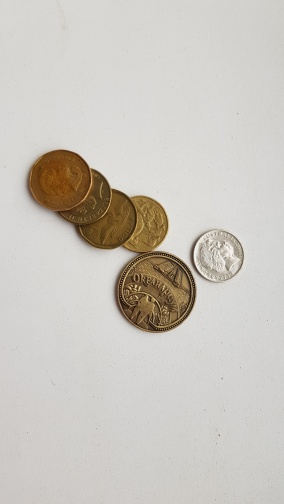coin: (116, 251, 197, 332), (28, 149, 92, 210), (77, 190, 137, 249), (55, 168, 112, 225), (192, 229, 244, 283), (121, 195, 169, 252)
